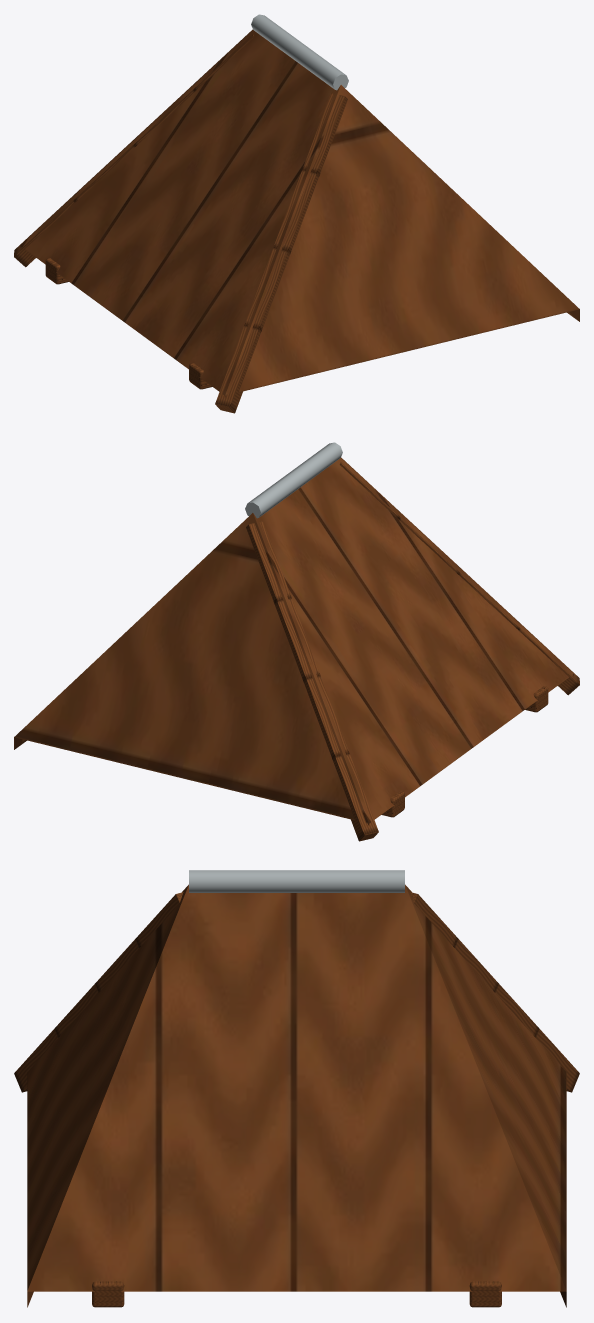
File: rural-scavenging-settlements-hipped-cottage-roof-8d71efba__26497.glb
3 renders of one model, top to bottom at view 1: azimuth 30°, elevation 25°; view 2: azimuth 150°, elevation 25°; view 3: azimuth 270°, elevation 25°, orthographic. The views are drawn at different scales.
Visible parts, largest first — view 1: hipped-cottage-roof; view 2: hipped-cottage-roof; view 3: hipped-cottage-roof.
Boxes of the visible parts, x1,y1,x2,y2 form: hipped-cottage-roof: (14, 14, 579, 413); hipped-cottage-roof: (14, 442, 579, 841); hipped-cottage-roof: (14, 870, 579, 1307).
Bounding box in the file's own units: 2.05 × 1.35 × 2.1.
Materials: 2 (1 with a texture image).
